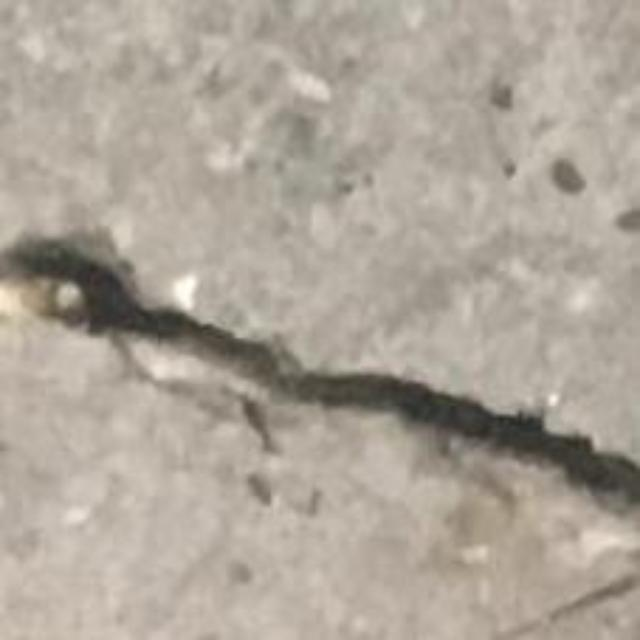crack: (0, 226, 639, 521)
